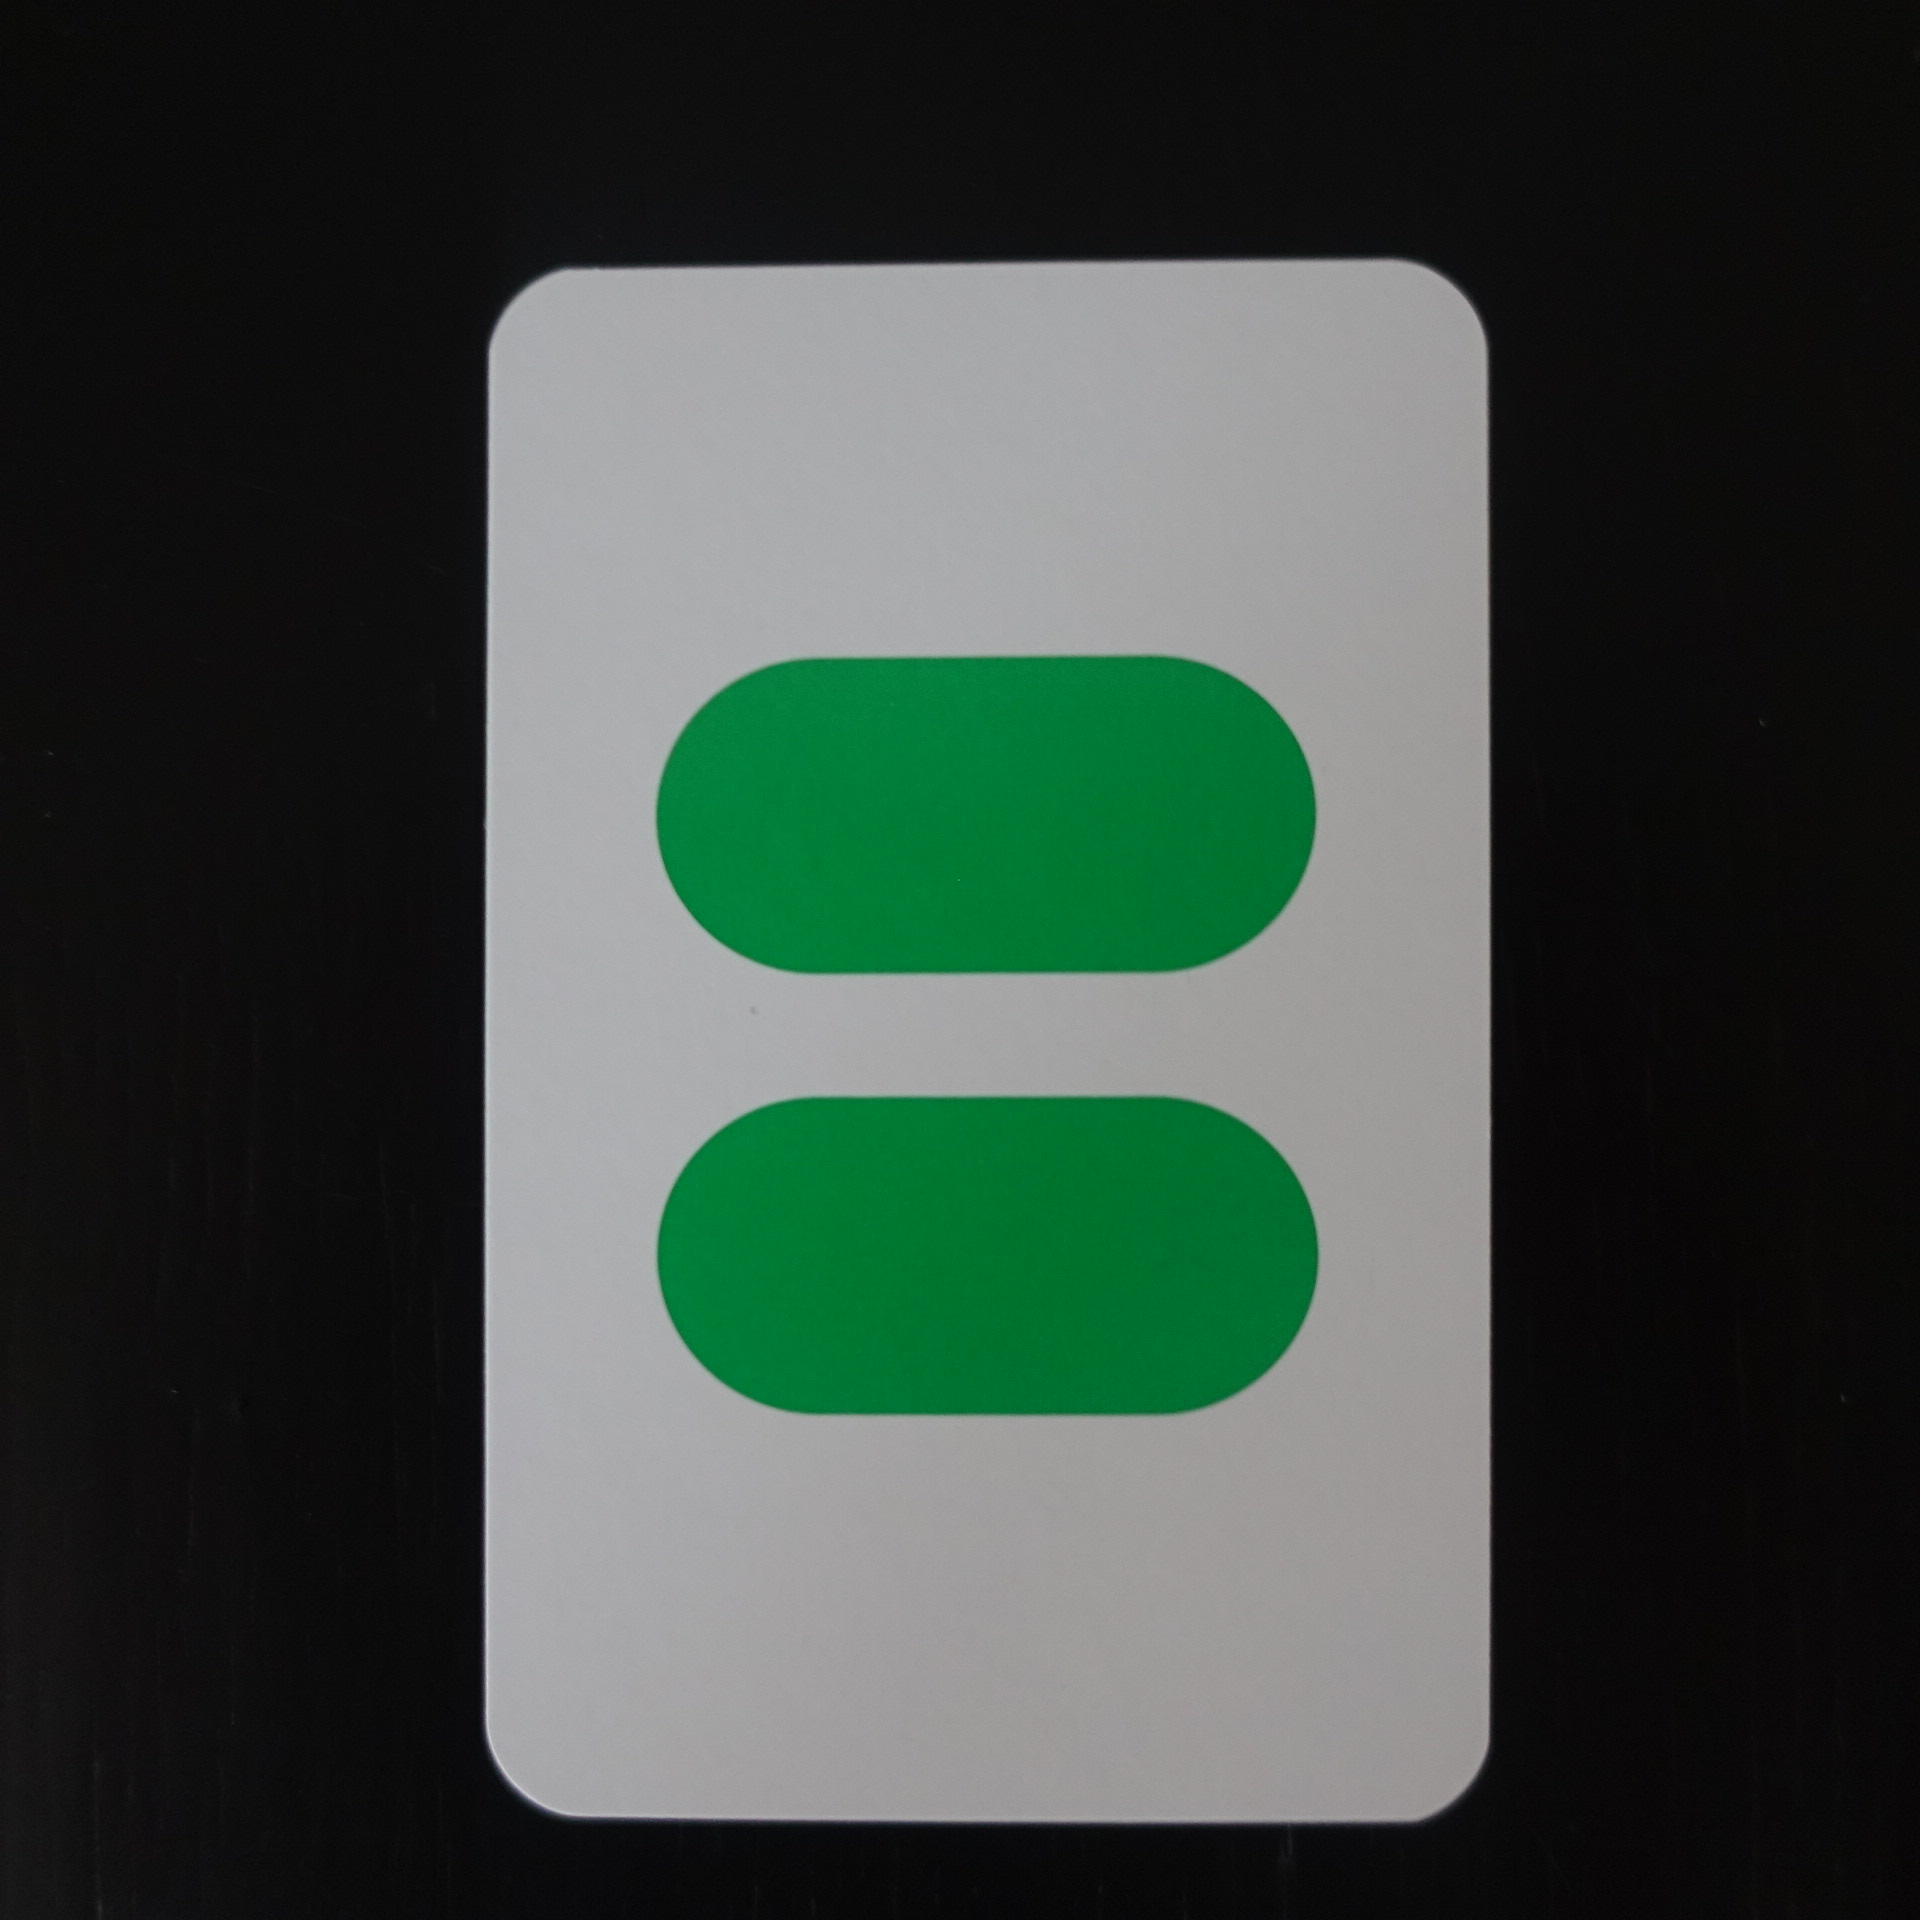c-2-f-d-r: (425, 220, 1526, 1857)
